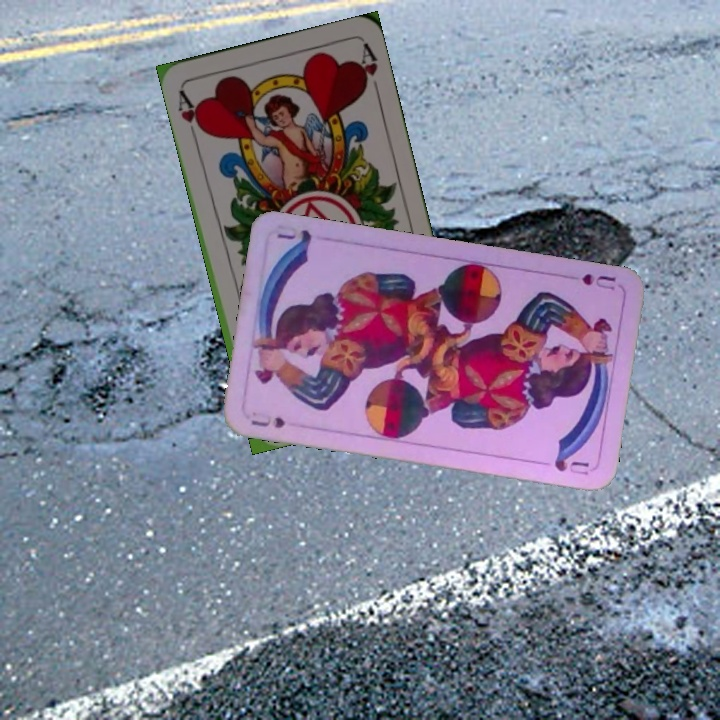HA: (173, 85, 207, 143)
SU: (247, 408, 289, 432), (578, 269, 619, 293)
